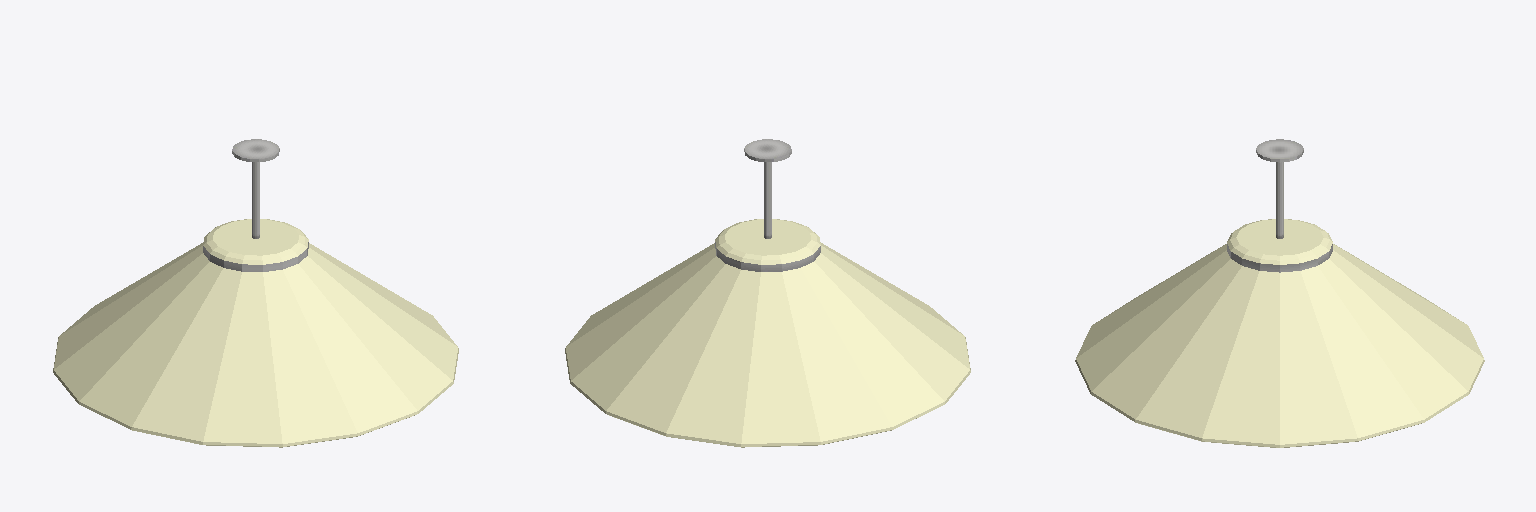
3 renders of one model, left to right at view 1: azimuth 30°, elevation 25°; view 2: azimuth 150°, elevation 25°; view 3: azimuth 270°, elevation 25°, orthographic.
Parts seen in each view (by area): view 1: ceiling_light_2; view 2: ceiling_light_2; view 3: ceiling_light_2.
Part boxes in pixels (bbox=[...]): ceiling_light_2: bbox=[53, 139, 458, 447]; ceiling_light_2: bbox=[565, 139, 970, 447]; ceiling_light_2: bbox=[1075, 139, 1484, 447].
Bounding box in the file's own units: 7.69 × 4.42 × 7.69.
Materials: 1 (1 with a texture image).